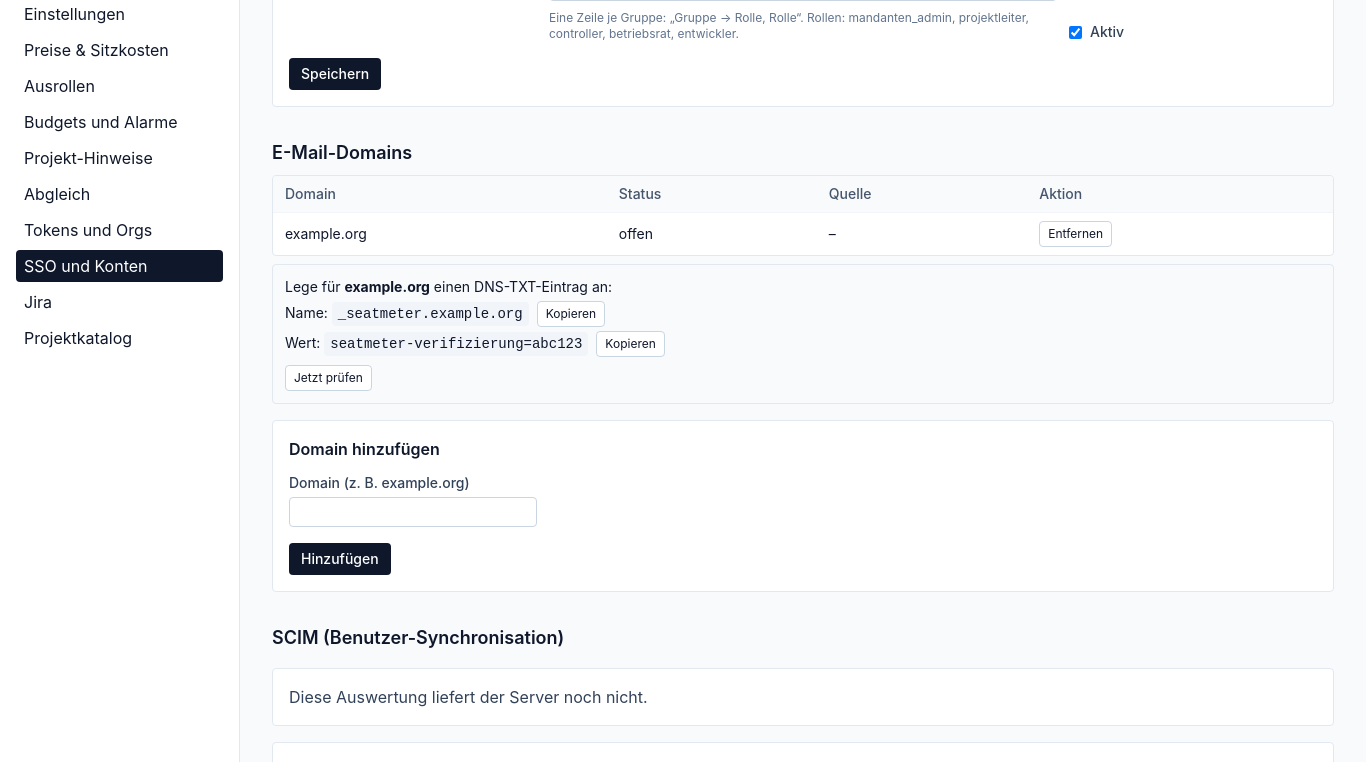
Test: SSO und Konten › „Jetzt prüfen“ zeigt den Fehlertext der DNS-Prüfung
(page scrolled)
Click the button with aria-label "example.org jetzt prüfen": (328, 378) [285,365,372,391]
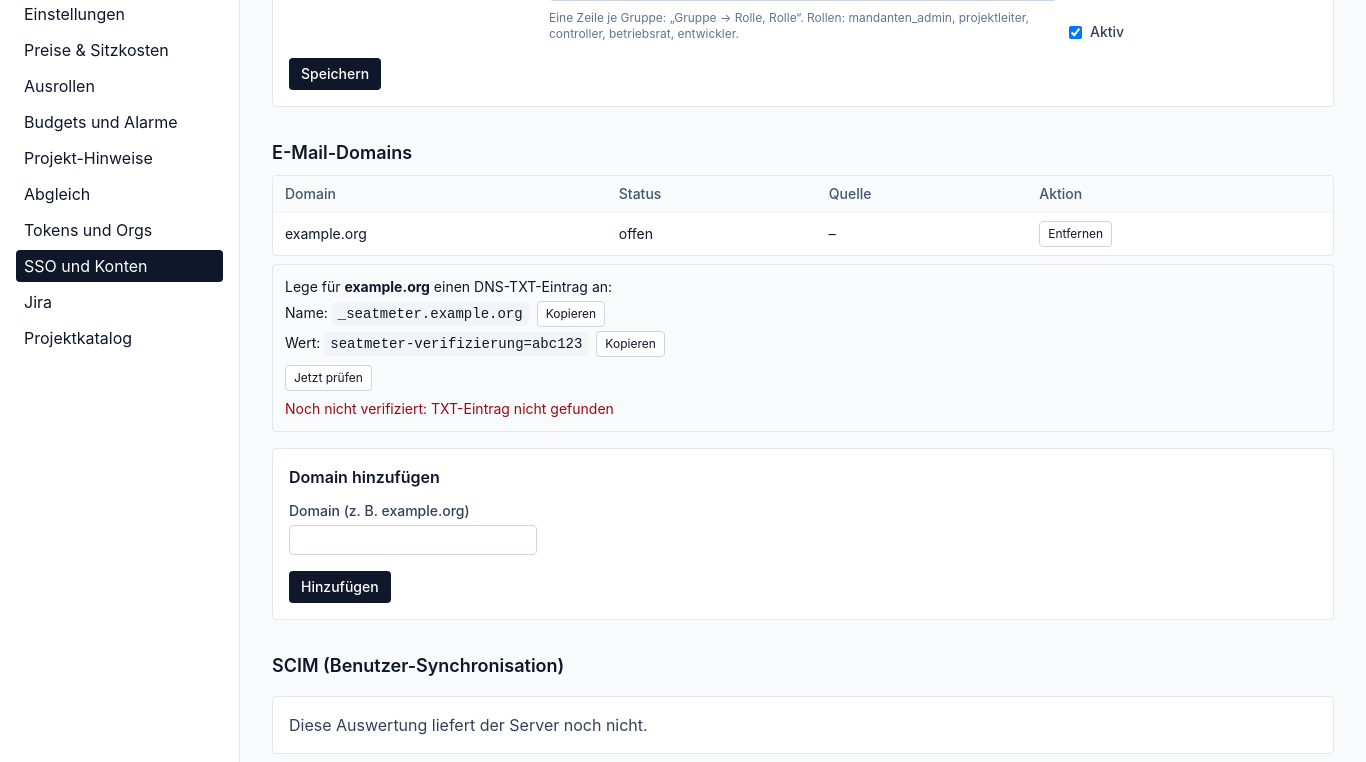
Expected: the text "Noch nicht verifiziert: TXT-Eintrag nicht gefunden" is shown, [285,400,614,417]
